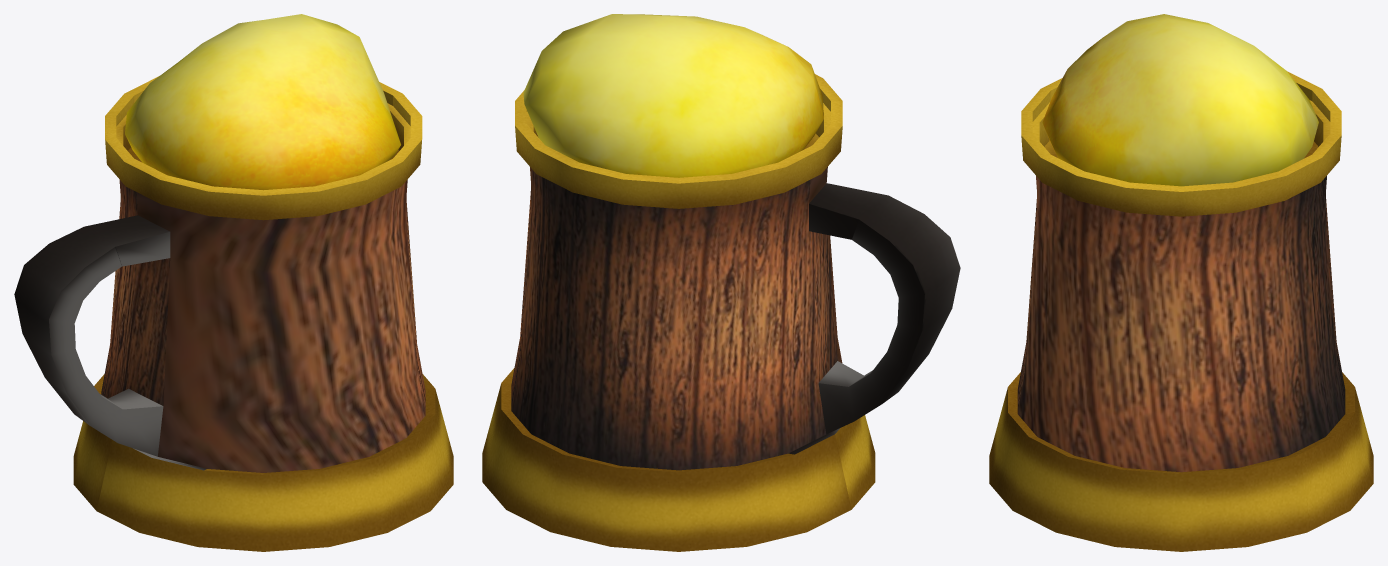
The model's file is jar_beer_normal.FBX.
The picture shows the model from 3 angles, left to right: view 1: azimuth 30°, elevation 25°; view 2: azimuth 150°, elevation 25°; view 3: azimuth 270°, elevation 25°; orthographic projection. The views are drawn at different scales.
Parts seen in each view (by area): view 1: beer_jar; view 2: beer_jar; view 3: beer_jar.
Part boxes in pixels (x1,y1,x2,y2): beer_jar: (14,14,453,551); beer_jar: (482,14,960,551); beer_jar: (989,14,1373,551).
Size of the model in its own units: 81.8 by 82.32 by 65.55.
Materials: 1 (1 with a texture image).
